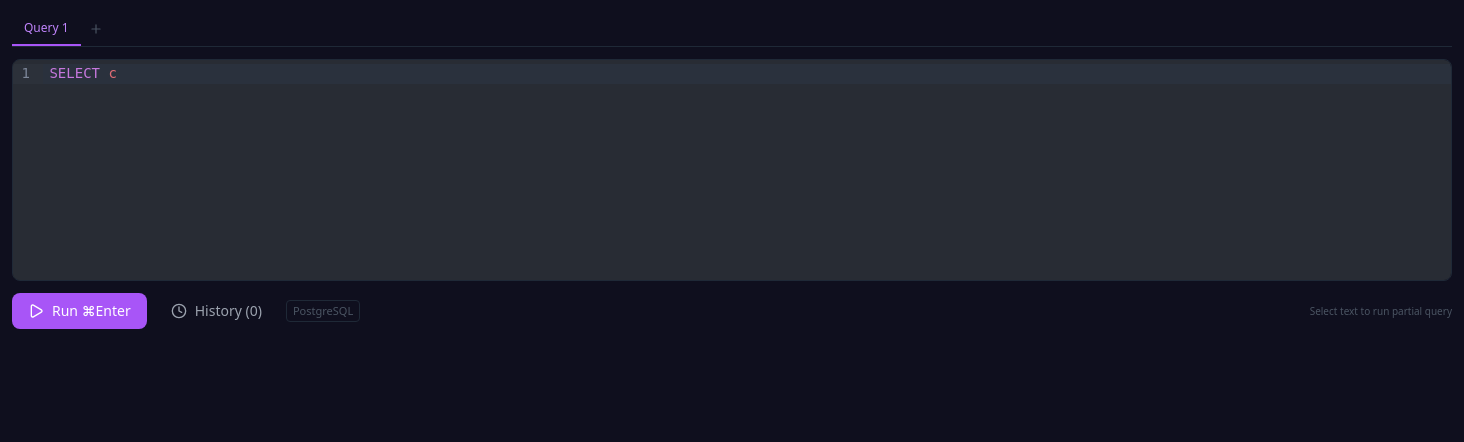
SqlEditorPage › a cell that cannot be serialised renders empty instead of failing
The image size is (1464, 442).
Click the button with test id "run-query-btn".
click(79, 311)  # box [12,293,147,329]
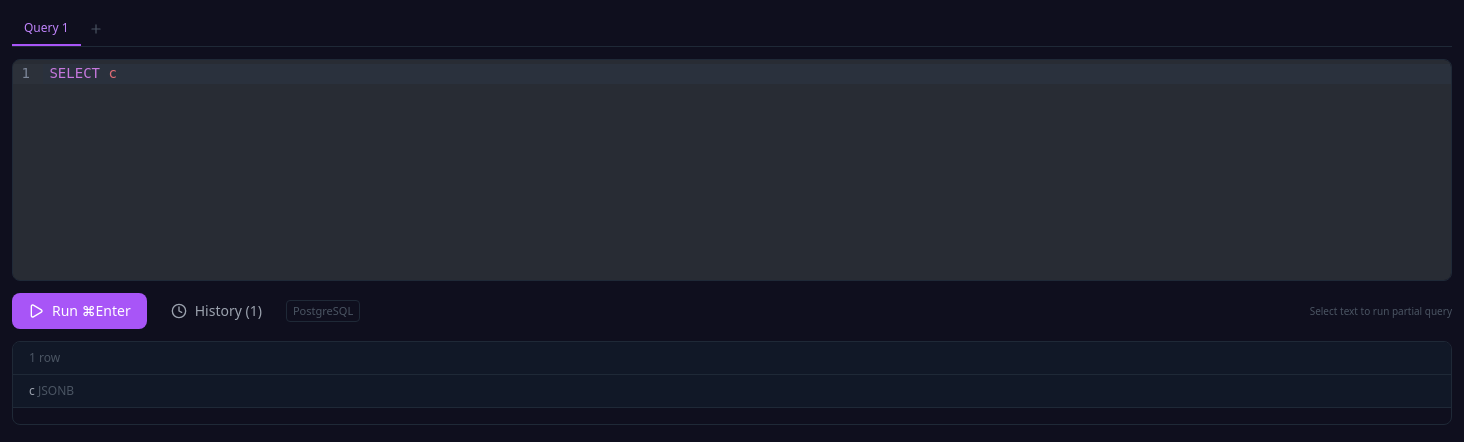
Check: the text "1 row" is shown, box [13,342,1451,375]
Check: the cell is empty, box [13,408,1451,424]
